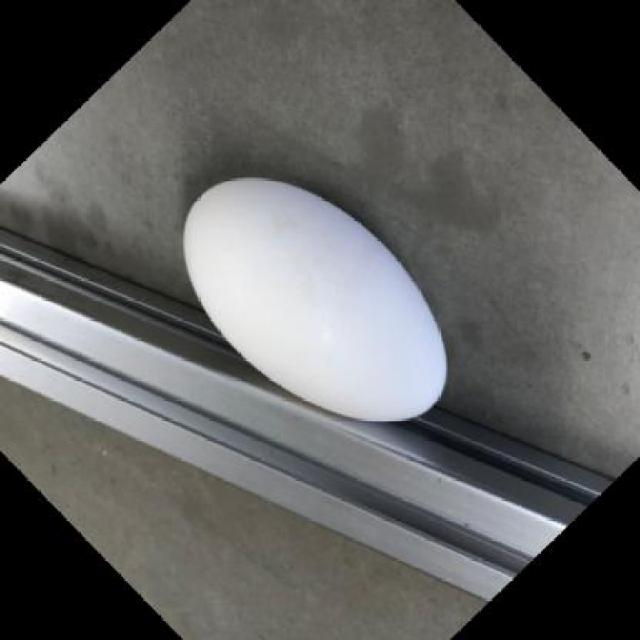egg: (178, 164, 456, 426)
